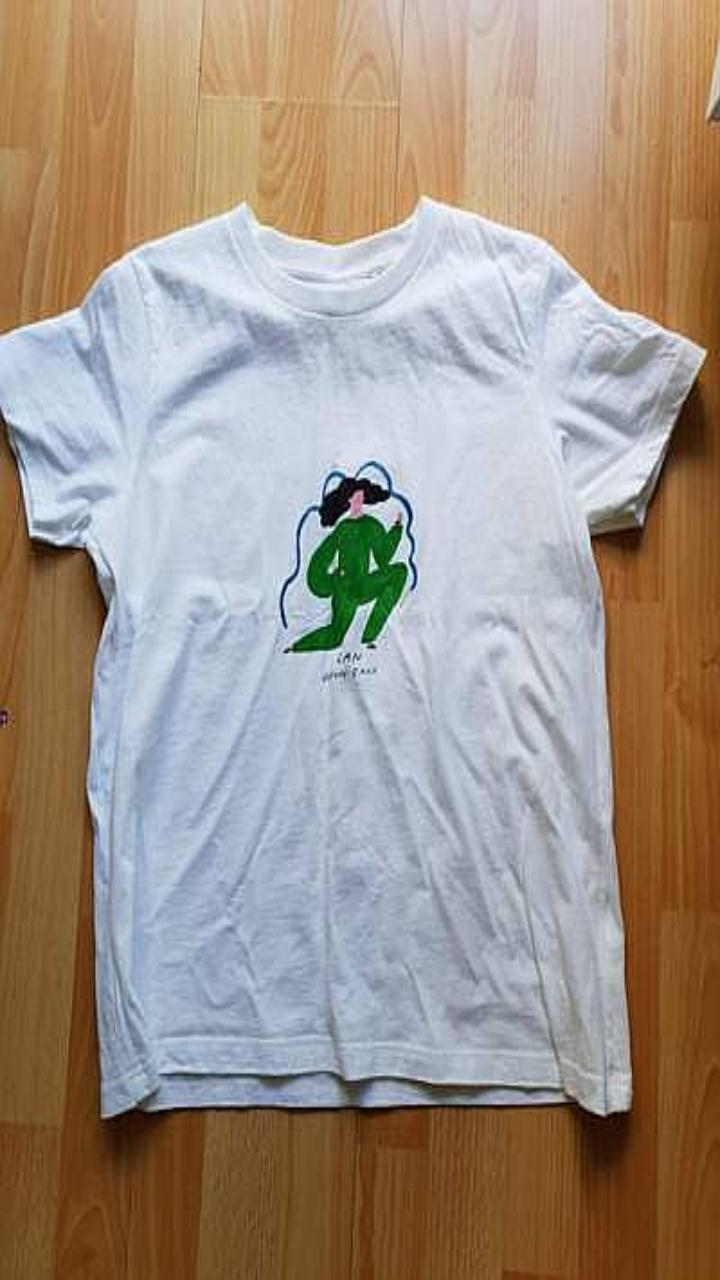T-Shirt: (0, 196, 706, 1117)
